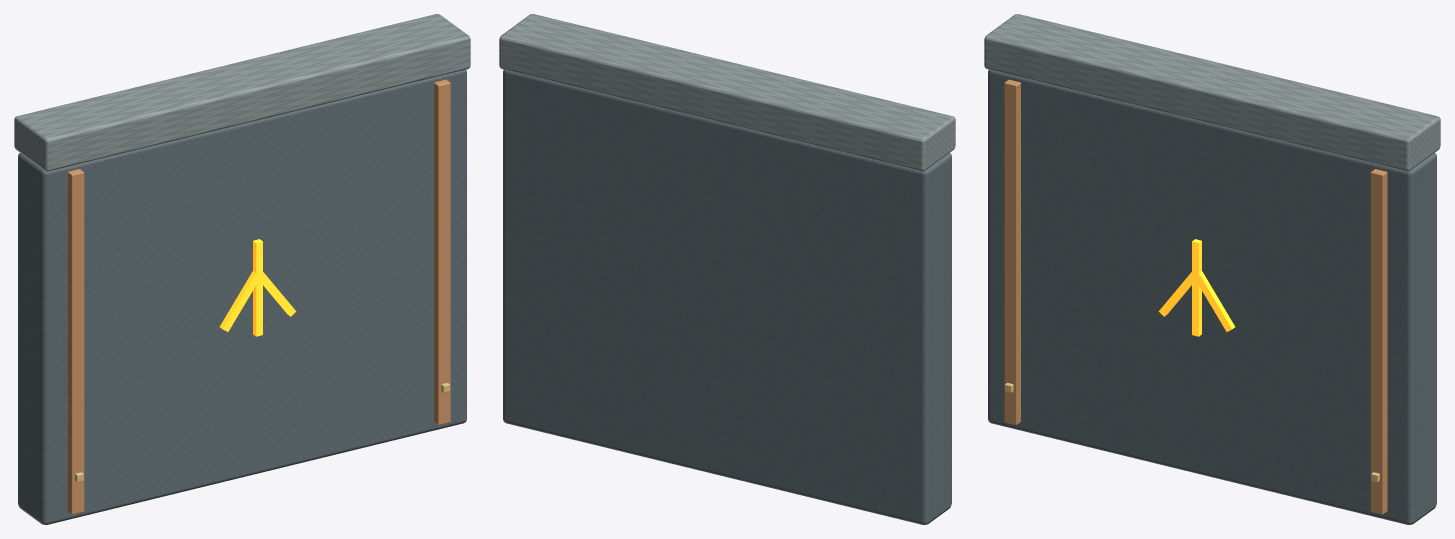
Rendered from dwarven-runeforge-dungeon-dwarven-runeforge-dungeon-ha-5e68f3ad__28588.glb.
The picture shows the model from 3 angles, left to right: view 1: azimuth 30°, elevation 25°; view 2: azimuth 150°, elevation 25°; view 3: azimuth 330°, elevation 25°; orthographic projection.
Visible parts, largest first — view 1: dwarven-runeforge-dungeon-hall-wall; view 2: dwarven-runeforge-dungeon-hall-wall; view 3: dwarven-runeforge-dungeon-hall-wall.
Part boxes in pixels (x1=…): dwarven-runeforge-dungeon-hall-wall: x1=14, y1=14, x2=470, y2=524; dwarven-runeforge-dungeon-hall-wall: x1=499, y1=14, x2=955, y2=524; dwarven-runeforge-dungeon-hall-wall: x1=984, y1=14, x2=1440, y2=524.
Bounding box in the file's own units: 4 × 3.5 × 0.6176.
Materials: 5 (2 with a texture image).
